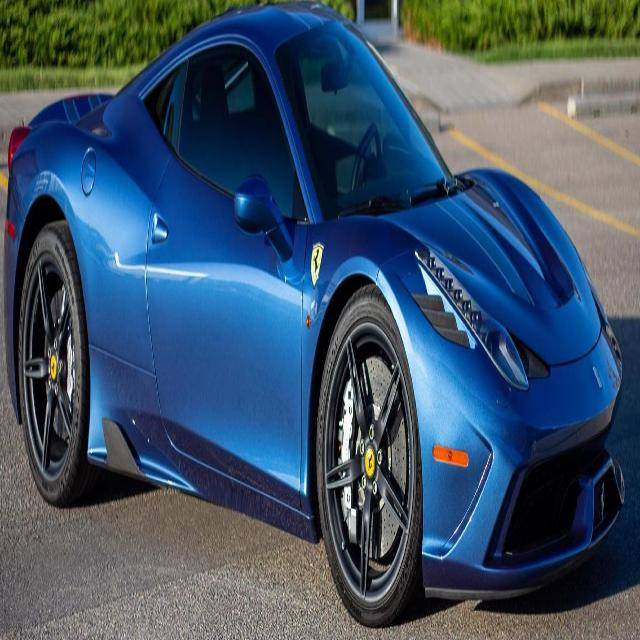blue: (7, 5, 626, 618)
